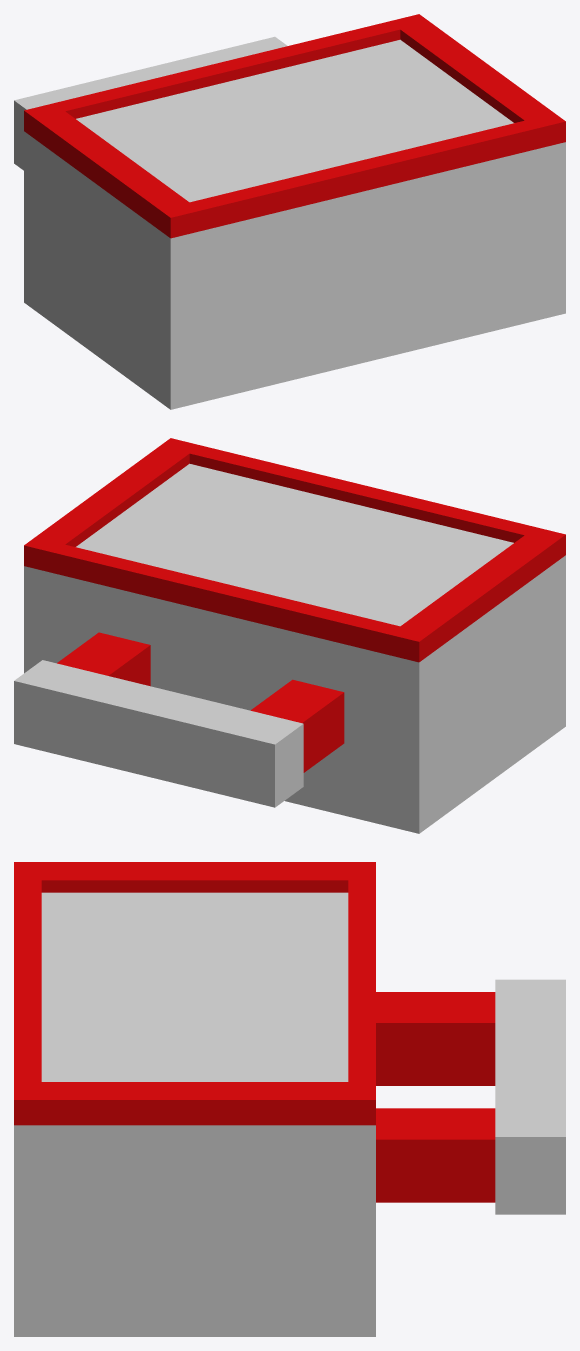
File: MedKit.fbx
The picture shows the model from 3 angles, top to bottom: view 1: azimuth 30°, elevation 25°; view 2: azimuth 150°, elevation 25°; view 3: azimuth 270°, elevation 25°; orthographic projection. The views are drawn at different scales.
Parts seen in each view (by area): view 1: MedKit; view 2: MedKit; view 3: MedKit.
Part boxes in pixels (bbox=[...]): MedKit: bbox=[14, 14, 565, 409]; MedKit: bbox=[14, 438, 565, 833]; MedKit: bbox=[14, 862, 565, 1336].
Size of the model in its own units: 24.36 by 11.31 by 23.89.
